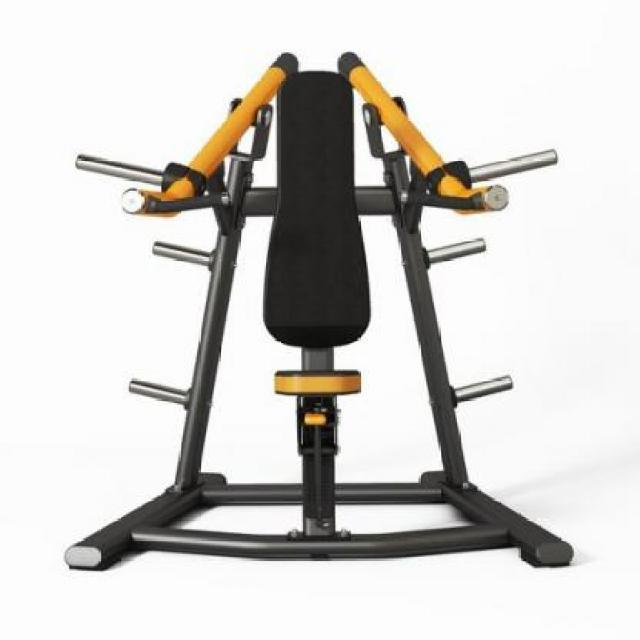shoulder press machine: (75, 52, 576, 571)
